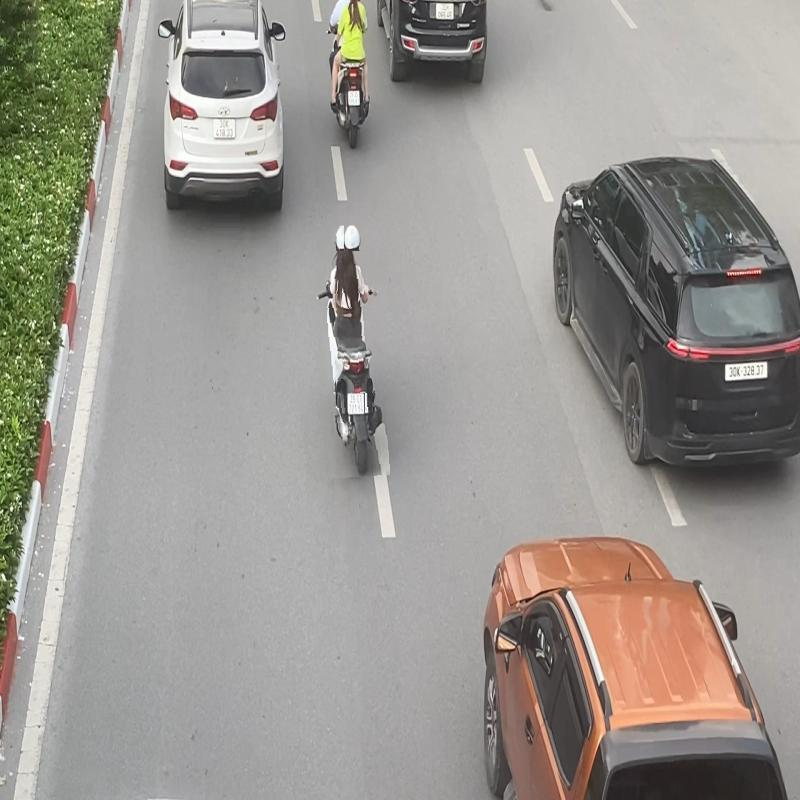helmet: (344, 225, 361, 251)
licenseplate: (347, 393, 365, 415)
motorcyclist: (316, 224, 386, 478)
